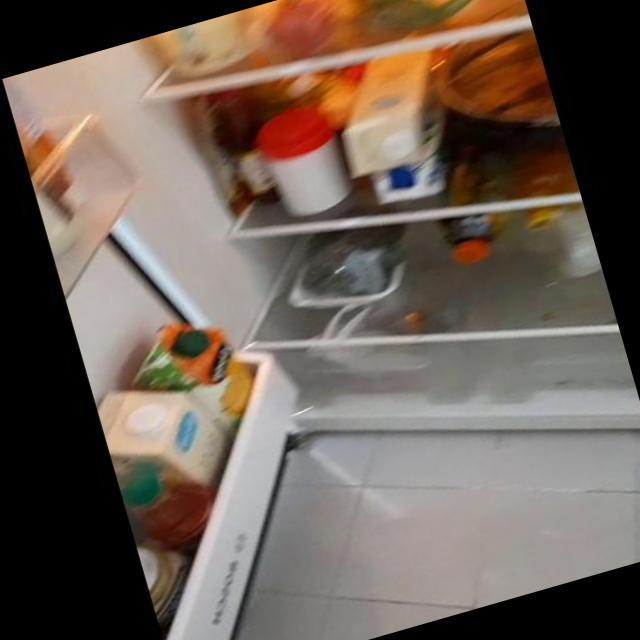Brocoli: (284, 220, 414, 322)
Yogur: (144, 7, 267, 90)
green chilies: (342, 0, 475, 51)
juice: (178, 313, 255, 431)
milk: (321, 37, 479, 213), (102, 373, 214, 508)
tomato paste: (254, 0, 348, 58)
